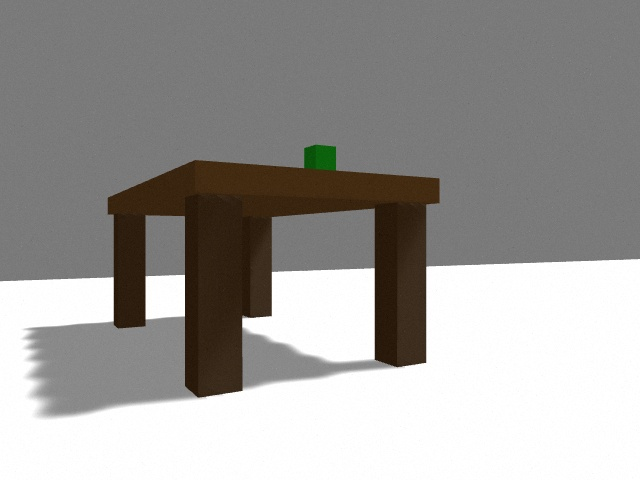green_cube: (304, 145, 336, 170)
